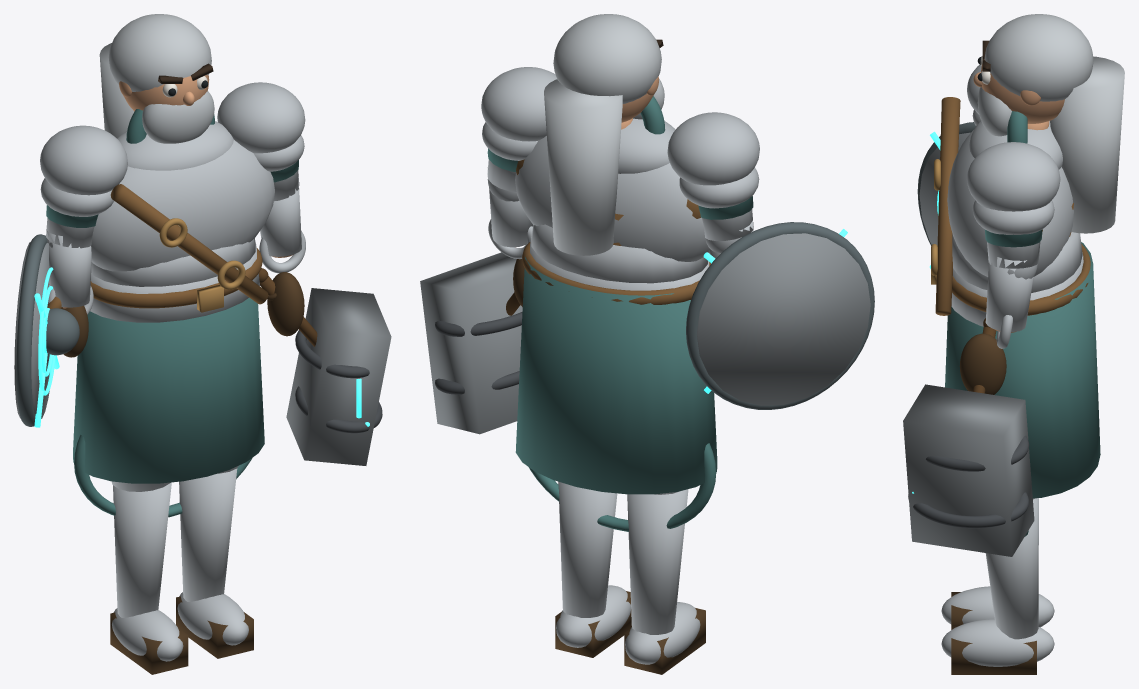
File: 3D模型 char_paladin.glb
3 views of the same model, side by side, from view 1: azimuth 30°, elevation 25°; view 2: azimuth 150°, elevation 25°; view 3: azimuth 270°, elevation 25° (orthographic). The views are drawn at different scales.
Visible parts, largest first — view 1: char_paladin_tabard, char_paladin_cuirass, char_paladin_hhead, char_paladin_greav_L, char_paladin_greav_R, char_paladin_hair, char_paladin_paud_L, char_paladin_paud_R, char_paladin_abdom2, char_paladin_gorget, char_paladin_srim, char_paladin_abdom1 (+25 smaller); view 2: char_paladin_tabard, char_paladin_shield, char_paladin_hhead, char_paladin_hairbk, char_paladin_cuirass, char_paladin_hair, char_paladin_greav_L, char_paladin_greav_R, char_paladin_paud_L, char_paladin_srim, char_paladin_abdom1, char_paladin_paud_R (+15 smaller); view 3: char_paladin_hhead, char_paladin_tabard, char_paladin_hairbk, char_paladin_hair, char_paladin_paud_R, char_paladin_cuirass, char_paladin_greav_R, char_paladin_sabat_R, char_paladin_baldric, char_paladin_vamb_R, char_paladin_hand_R, char_paladin_abdom1 (+17 smaller).
Boxes of the visible parts, x1,y1,x2,y2 form: char_paladin_tabard: [73, 297, 264, 483]; char_paladin_cuirass: [91, 140, 274, 271]; char_paladin_hhead: [286, 288, 391, 465]; char_paladin_greav_L: [113, 482, 171, 617]; char_paladin_greav_R: [179, 468, 237, 601]; char_paladin_hair: [108, 14, 211, 91]; char_paladin_paud_L: [40, 125, 127, 195]; char_paladin_paud_R: [217, 82, 305, 153]; char_paladin_abdom2: [90, 244, 259, 322]; char_paladin_gorget: [117, 121, 233, 170]; char_paladin_srim: [16, 234, 47, 426]; char_paladin_abdom1: [91, 238, 255, 286]; char_paladin_tabard: [515, 257, 717, 494]; char_paladin_shield: [697, 233, 870, 405]; char_paladin_hhead: [420, 252, 522, 434]; char_paladin_hairbk: [544, 79, 622, 255]; char_paladin_cuirass: [515, 136, 708, 261]; char_paladin_hair: [553, 14, 661, 103]; char_paladin_greav_L: [627, 489, 688, 634]; char_paladin_greav_R: [558, 481, 617, 617]; char_paladin_paud_L: [667, 112, 759, 185]; char_paladin_srim: [686, 222, 874, 409]; char_paladin_abdom1: [531, 224, 707, 283]; char_paladin_paud_R: [481, 67, 556, 141]; char_paladin_hhead: [903, 384, 1034, 556]; char_paladin_tabard: [945, 242, 1100, 498]; char_paladin_hairbk: [1050, 56, 1124, 233]; char_paladin_hair: [984, 14, 1093, 101]; char_paladin_paud_R: [967, 142, 1060, 211]; char_paladin_cuirass: [947, 130, 1073, 276]; char_paladin_greav_R: [985, 498, 1038, 639]; char_paladin_sabat_R: [941, 619, 1054, 666]; char_paladin_baldric: [935, 97, 960, 315]; char_paladin_vamb_R: [985, 257, 1033, 331]; char_paladin_hand_R: [959, 333, 1006, 394]; char_paladin_abdom1: [952, 232, 1082, 292].
Bounding box in the file's own units: 1.2 × 1.78 × 0.5683.
